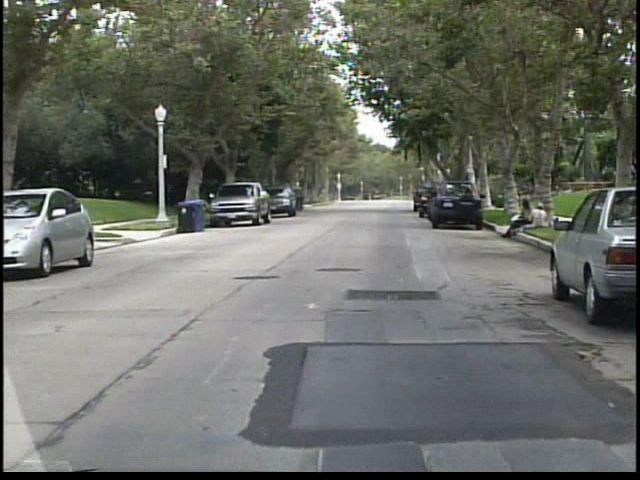person: (502, 197, 536, 241), (527, 203, 547, 228)
